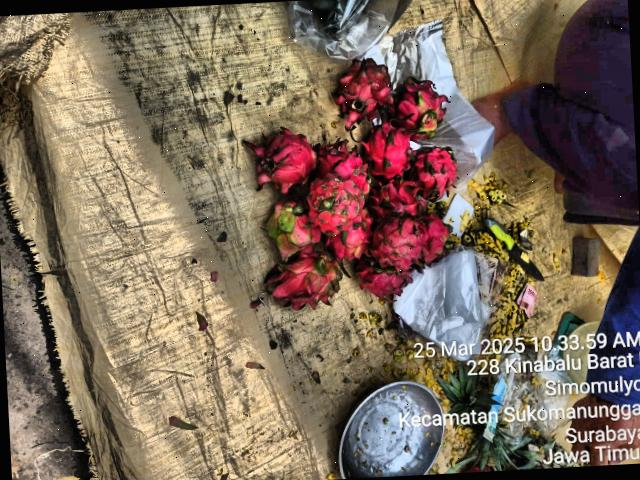buah-naga-belum-matang: (270, 243, 340, 310), (397, 70, 455, 140), (260, 195, 316, 252)
buah-naga-matang: (370, 208, 439, 282), (246, 130, 318, 190), (334, 52, 394, 122), (307, 169, 363, 229), (410, 142, 463, 200), (364, 120, 415, 176), (358, 258, 412, 307), (366, 176, 426, 220), (324, 215, 371, 260), (314, 137, 354, 181), (424, 214, 454, 262)
